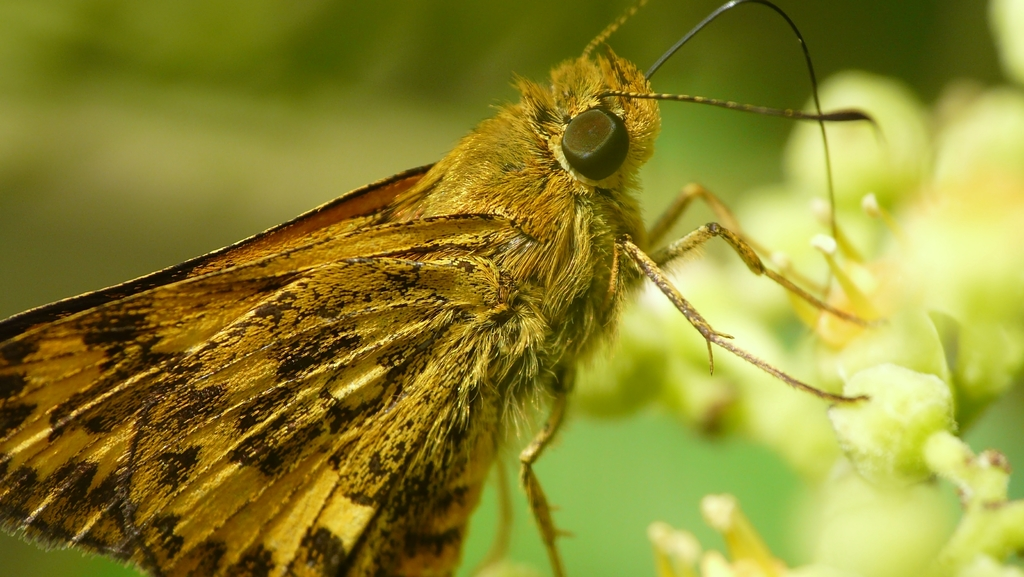Butterfly: (9, 34, 716, 577)
